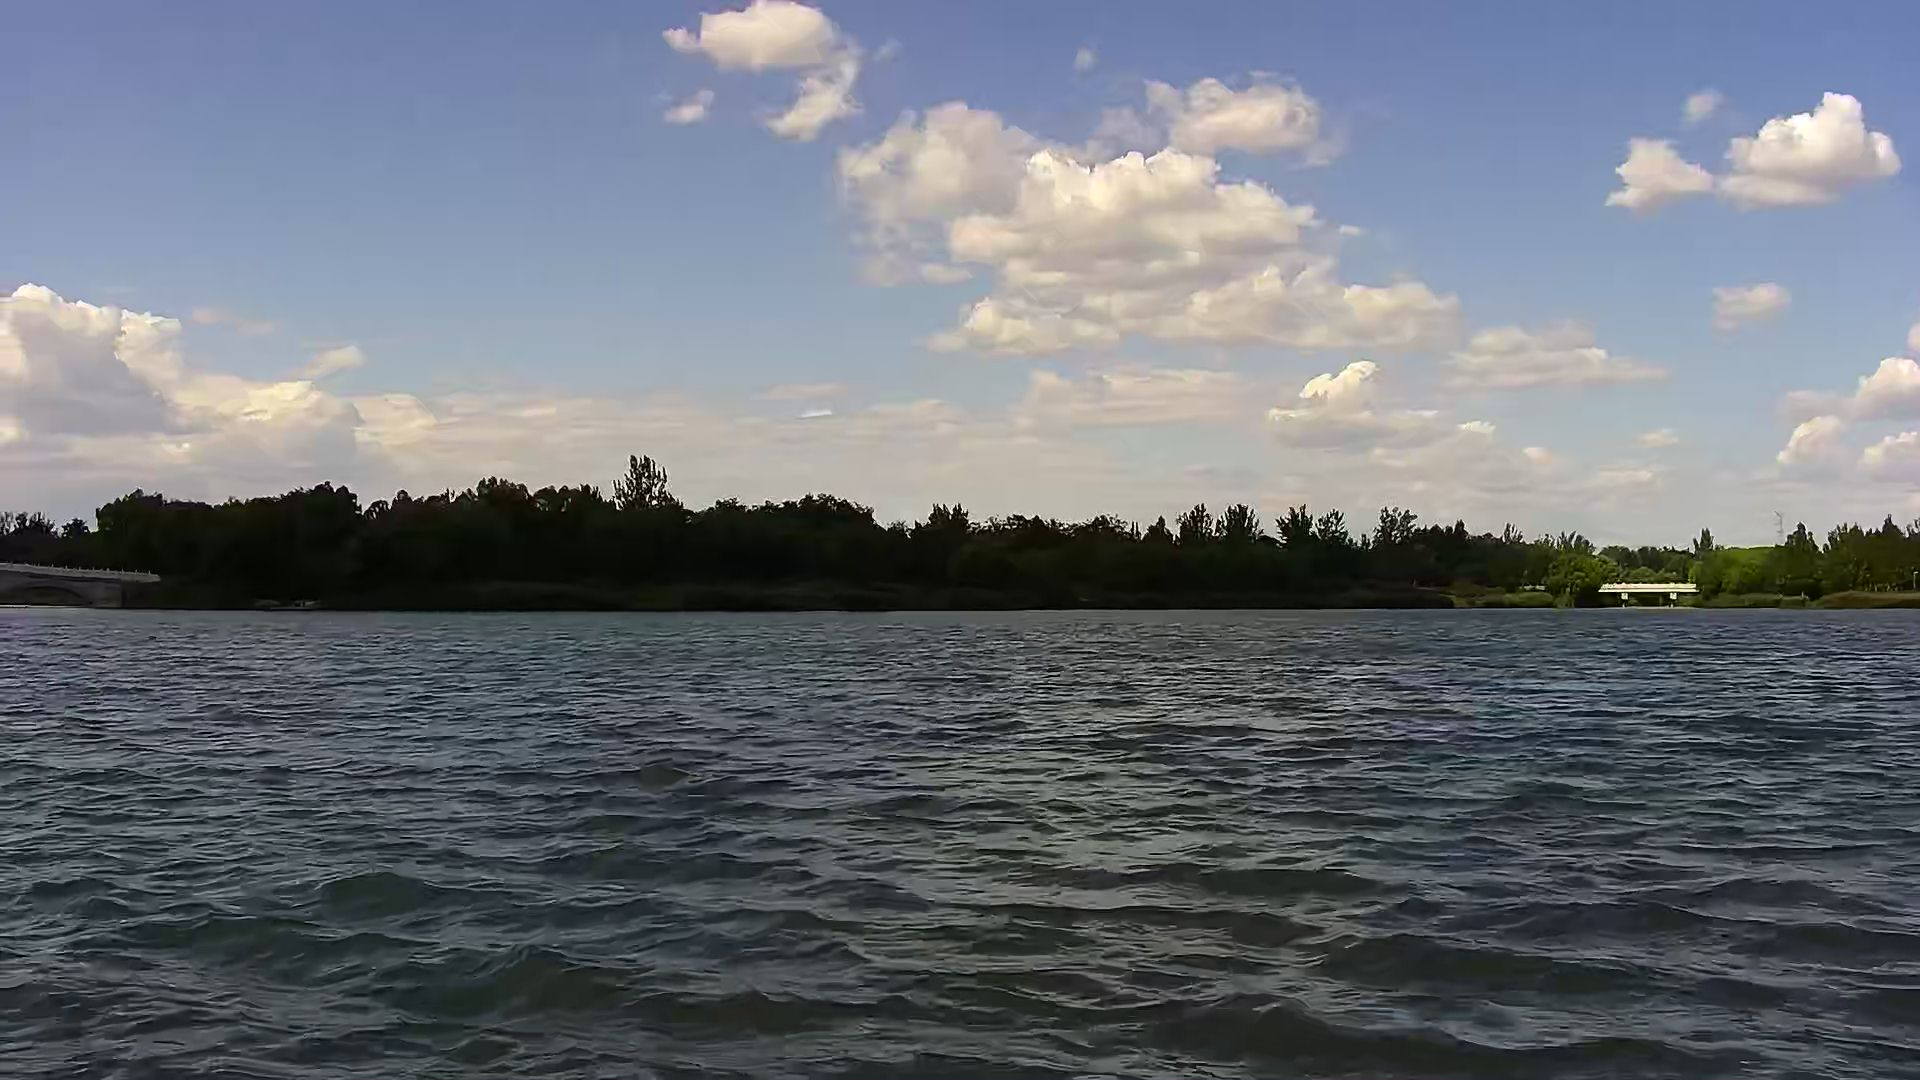bridge: (1, 560, 150, 607), (1596, 578, 1704, 615)
